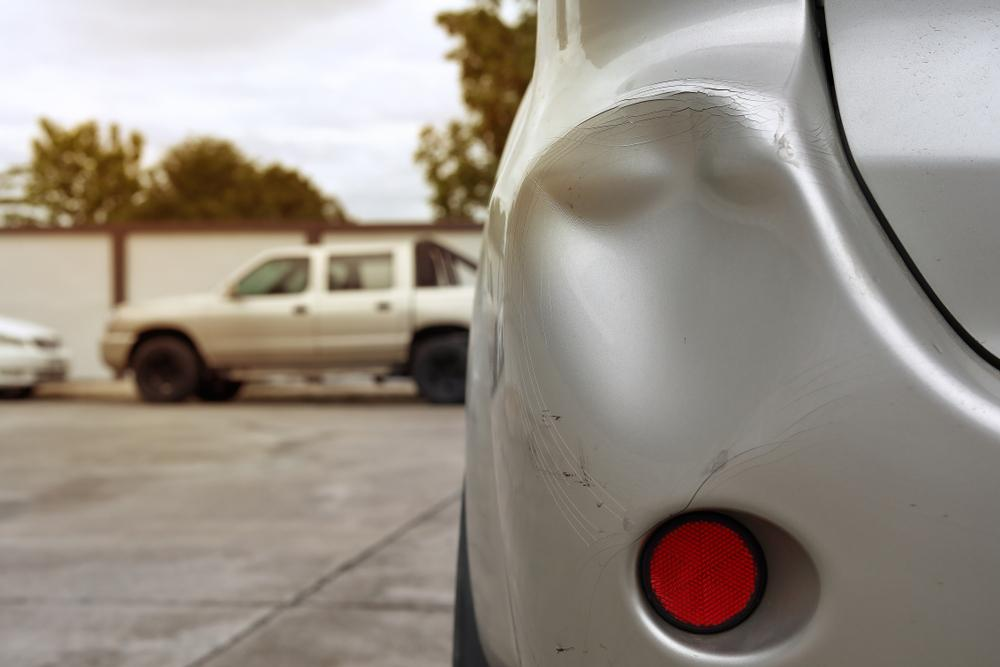dent: (528, 87, 839, 470)
